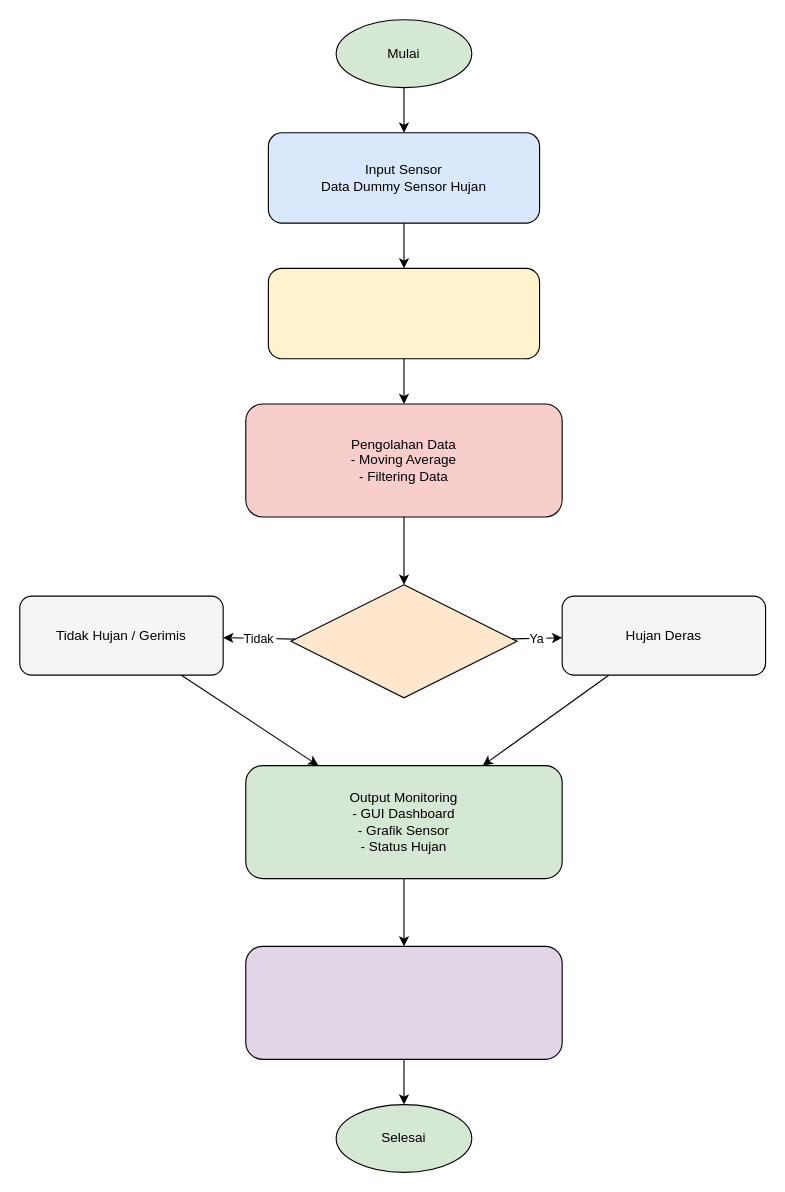
Some shapes in this 785 by 1192 pixel diagram are drawn without their labels. Here are the shapes that lost their labels. From the top down, the box of each, then its label:
(267, 267, 540, 359): Validasi Data Sensor
(290, 584, 517, 698): Apakah Intensitas > 70?
(245, 945, 562, 1059): Alarm / Kontrol Otomatis - LED - Buzzer - Notifikasi
